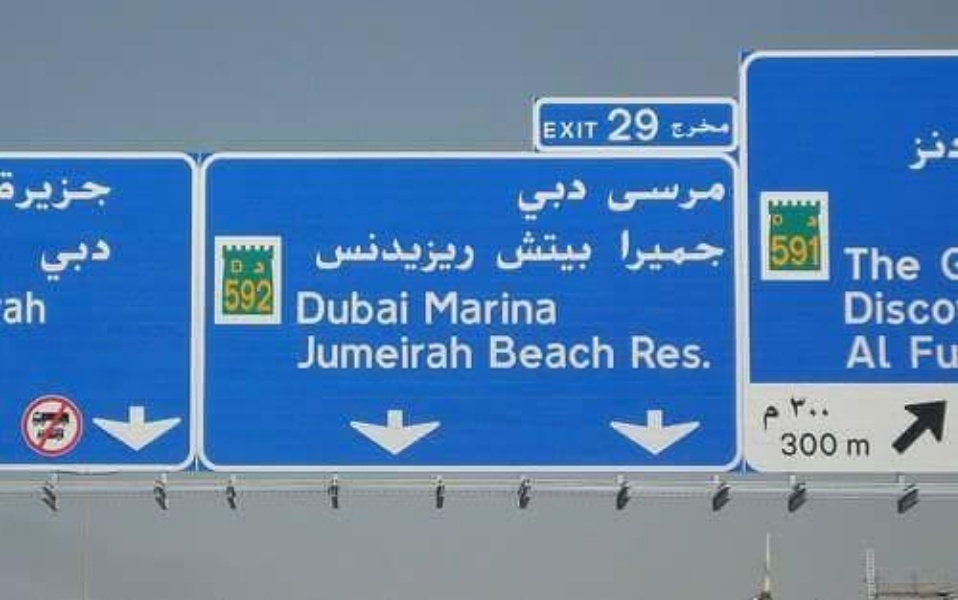text: (49, 234, 64, 282), (65, 234, 80, 282), (81, 234, 96, 282), (97, 234, 112, 282), (625, 227, 640, 273), (641, 227, 656, 273), (657, 227, 672, 273), (673, 227, 688, 273), (689, 227, 704, 273), (705, 227, 720, 273), (913, 129, 928, 173), (929, 129, 944, 173), (321, 232, 336, 275), (337, 232, 352, 275), (353, 232, 368, 275), (369, 232, 384, 275), (385, 232, 400, 275), (401, 232, 416, 275), (417, 232, 432, 275), (433, 232, 448, 275), (449, 232, 464, 275), (529, 179, 544, 221), (545, 179, 560, 221), (561, 179, 576, 221), (497, 231, 512, 273), (513, 231, 528, 273), (529, 231, 544, 273), (545, 231, 560, 273), (561, 231, 576, 273), (577, 231, 592, 273), (305, 288, 320, 328), (321, 288, 336, 328), (337, 288, 352, 328), (353, 288, 368, 328), (369, 288, 384, 328), (385, 288, 400, 328), (305, 330, 320, 370), (321, 330, 336, 370), (337, 330, 352, 370), (353, 330, 368, 370), (369, 330, 384, 370), (385, 330, 400, 370), (401, 330, 416, 370), (417, 330, 432, 370), (433, 330, 448, 370), (449, 330, 464, 370), (849, 242, 864, 282), (865, 242, 880, 282), (881, 242, 896, 282), (897, 242, 912, 282), (1, 171, 16, 211), (17, 171, 32, 211), (33, 171, 48, 211), (49, 171, 64, 211), (65, 171, 80, 211), (81, 171, 96, 211), (97, 171, 112, 211), (514, 179, 528, 221), (945, 129, 958, 173), (609, 106, 624, 144), (625, 106, 640, 144), (641, 106, 656, 144), (849, 334, 864, 372), (865, 334, 880, 372), (225, 277, 240, 315), (241, 277, 256, 315), (257, 277, 272, 315), (785, 232, 800, 269), (801, 232, 816, 269), (641, 334, 656, 370), (657, 334, 672, 370), (673, 334, 688, 370), (689, 334, 704, 370), (609, 179, 624, 215), (625, 179, 640, 215), (641, 179, 656, 215), (657, 179, 672, 215), (673, 179, 688, 215), (689, 179, 704, 215), (705, 179, 720, 215), (433, 290, 448, 326), (449, 290, 464, 326), (465, 290, 480, 326), (481, 290, 496, 326), (497, 290, 512, 326), (513, 290, 528, 326), (529, 290, 544, 326), (545, 290, 560, 326), (497, 334, 512, 370), (513, 334, 528, 370), (529, 334, 544, 370), (545, 334, 560, 370), (561, 334, 576, 370), (577, 334, 592, 370), (593, 334, 608, 370), (849, 290, 864, 326), (865, 290, 880, 326), (881, 290, 896, 326), (897, 290, 912, 326), (913, 290, 928, 326), (929, 290, 944, 326), (913, 334, 928, 370), (929, 334, 944, 370), (1, 290, 16, 326), (17, 290, 32, 326), (771, 232, 784, 269), (465, 232, 476, 275), (945, 290, 958, 326), (945, 334, 958, 370), (33, 290, 46, 326), (881, 334, 893, 372), (39, 234, 48, 282), (577, 179, 587, 221), (785, 432, 800, 459), (801, 432, 816, 459), (817, 432, 832, 459), (401, 288, 411, 328), (422, 290, 432, 326), (465, 330, 474, 370), (913, 242, 922, 282), (673, 117, 688, 140), (689, 117, 704, 140), (705, 117, 720, 140), (801, 397, 816, 420), (817, 397, 832, 420), (631, 334, 640, 370), (487, 334, 496, 370), (296, 288, 304, 328), (296, 330, 304, 370), (769, 403, 780, 432), (545, 121, 560, 140), (561, 121, 576, 140), (577, 121, 592, 140), (849, 438, 864, 457), (721, 227, 727, 273), (721, 117, 732, 140), (609, 334, 616, 370), (790, 397, 800, 420), (907, 129, 912, 173), (705, 334, 711, 370), (721, 179, 727, 215), (842, 290, 848, 326), (315, 232, 320, 275), (761, 403, 768, 432), (257, 259, 267, 277), (805, 213, 816, 229), (844, 242, 848, 282), (817, 232, 821, 269), (621, 227, 624, 273), (833, 432, 838, 459), (865, 438, 872, 457), (657, 106, 660, 144), (221, 277, 224, 315), (909, 334, 912, 370), (780, 432, 784, 459), (593, 121, 598, 140), (251, 259, 256, 277), (606, 179, 608, 215), (817, 213, 821, 229), (541, 121, 544, 140), (845, 438, 848, 457), (495, 231, 496, 273), (593, 231, 594, 273), (847, 334, 848, 372), (273, 277, 274, 315), (671, 117, 672, 140)
